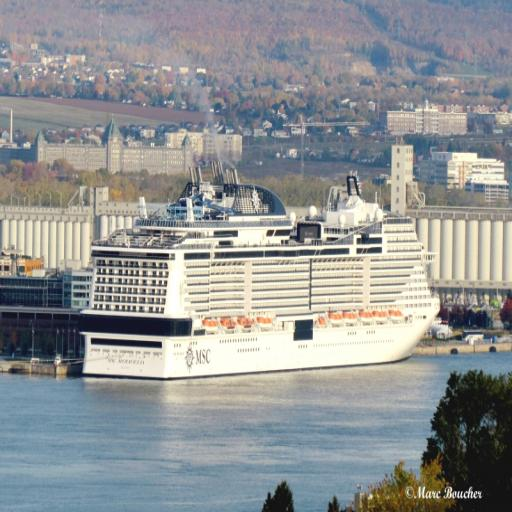cruises: (77, 158, 445, 387)
